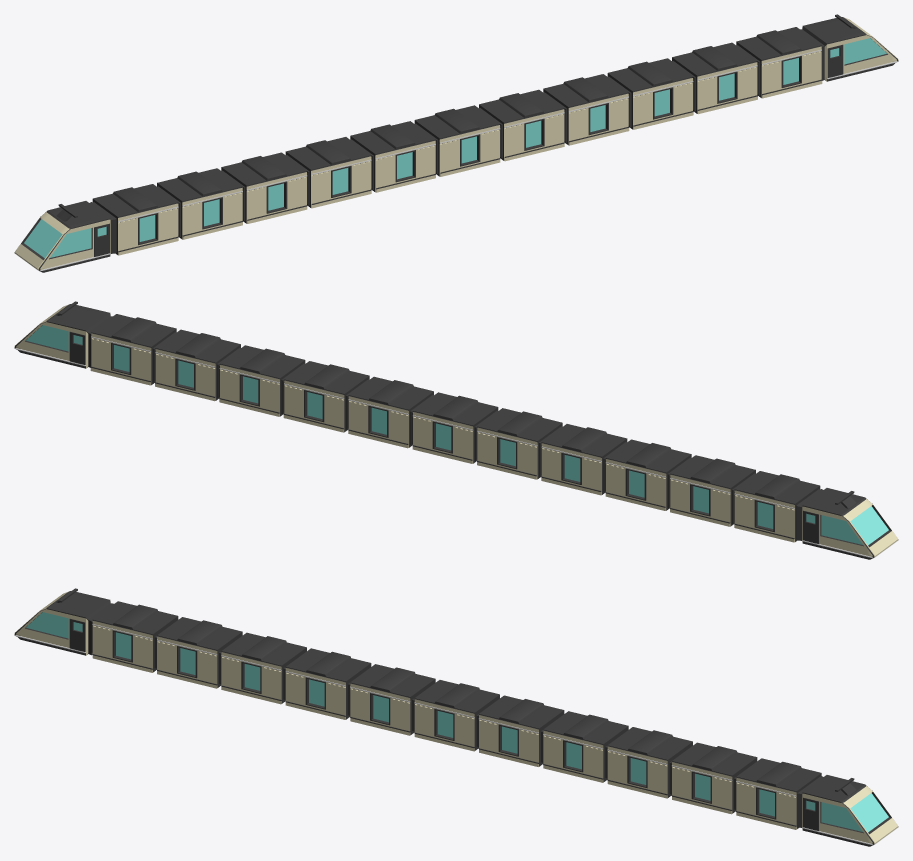
Rendered from aTrain 2.fbx.
The picture shows the model from 3 angles, top to bottom: view 1: azimuth 30°, elevation 25°; view 2: azimuth 150°, elevation 25°; view 3: azimuth 330°, elevation 25°; orthographic projection.
Visible parts, largest first — view 1: Cube.001, Cube.002, Cube; view 2: Cube.001, Cube.002, Cube; view 3: Cube.001, Cube, Cube.002.
Boxes of the visible parts, <box> form: Cube.001: <box>92,27,822,255</box>; Cube.002: <box>14,201,115,272</box>; Cube: <box>800,14,898,81</box>; Cube.001: <box>90,314,820,542</box>; Cube.002: <box>797,488,898,559</box>; Cube: <box>14,301,112,368</box>; Cube.001: <box>91,601,821,829</box>; Cube: <box>797,775,898,846</box>; Cube.002: <box>14,588,113,655</box>.
Size of the model in its own units: 6348 by 317 by 334.
